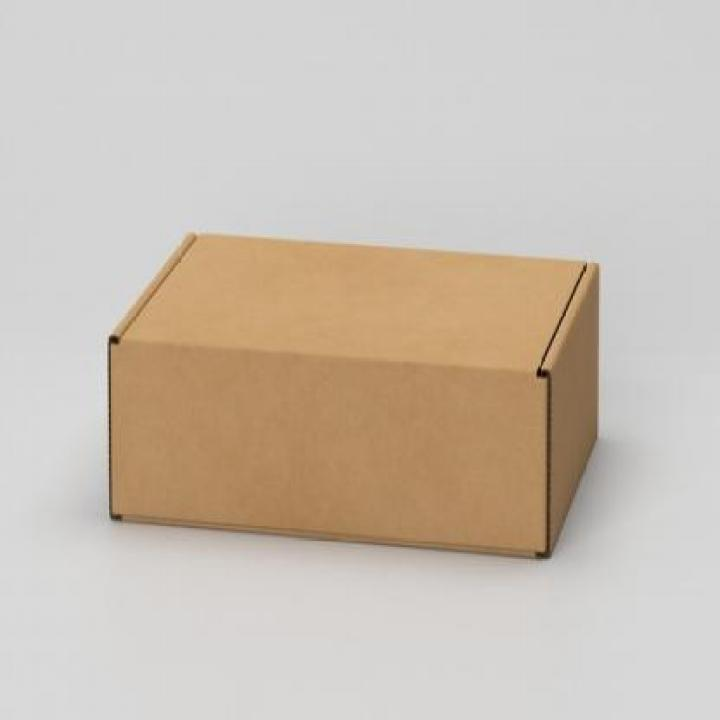box: (90, 211, 616, 568)
